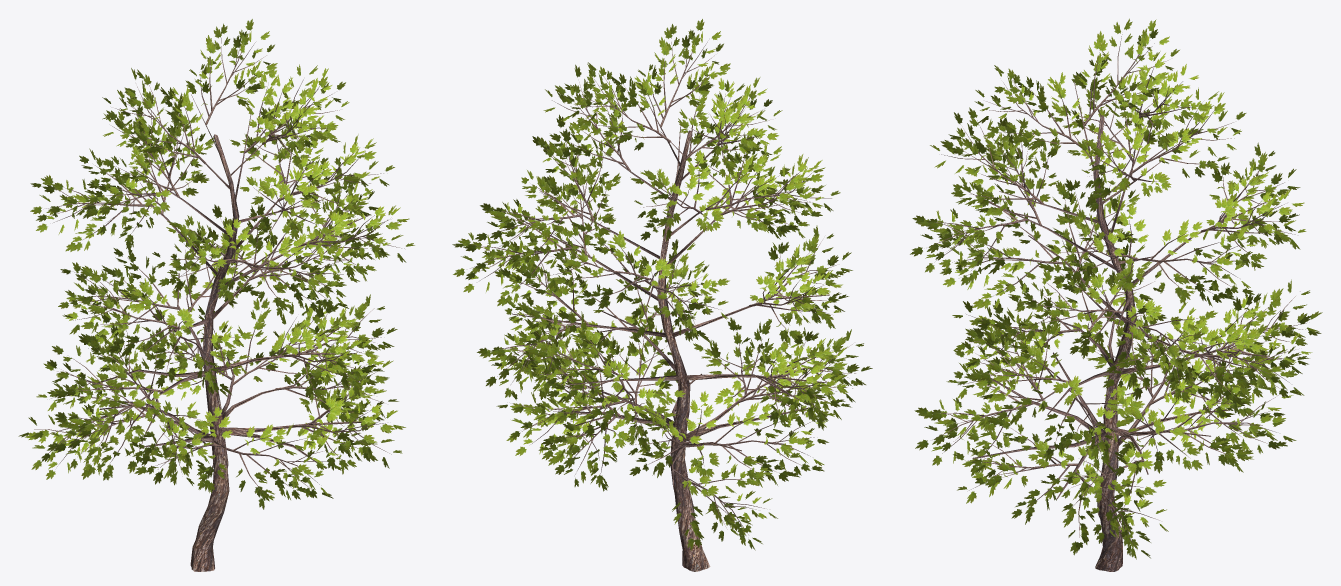
Rendered from treeC.fbx.
3 renders of one model, left to right at view 1: azimuth 30°, elevation 25°; view 2: azimuth 150°, elevation 25°; view 3: azimuth 270°, elevation 25°, orthographic. The views are drawn at different scales.
Visible parts, largest first — view 1: TreeCLeaf, TreeC; view 2: TreeCLeaf, TreeC; view 3: TreeCLeaf, TreeC.
Part boxes in pixels (<box>): TreeCLeaf: <box>18,19,414,509</box>; TreeC: <box>34,38,404,571</box>; TreeCLeaf: <box>452,19,872,550</box>; TreeC: <box>470,38,855,571</box>; TreeCLeaf: <box>910,18,1322,559</box>; TreeC: <box>929,34,1306,571</box>.
Bounding box in the file's own units: 7.37 × 9.83 × 6.97.
